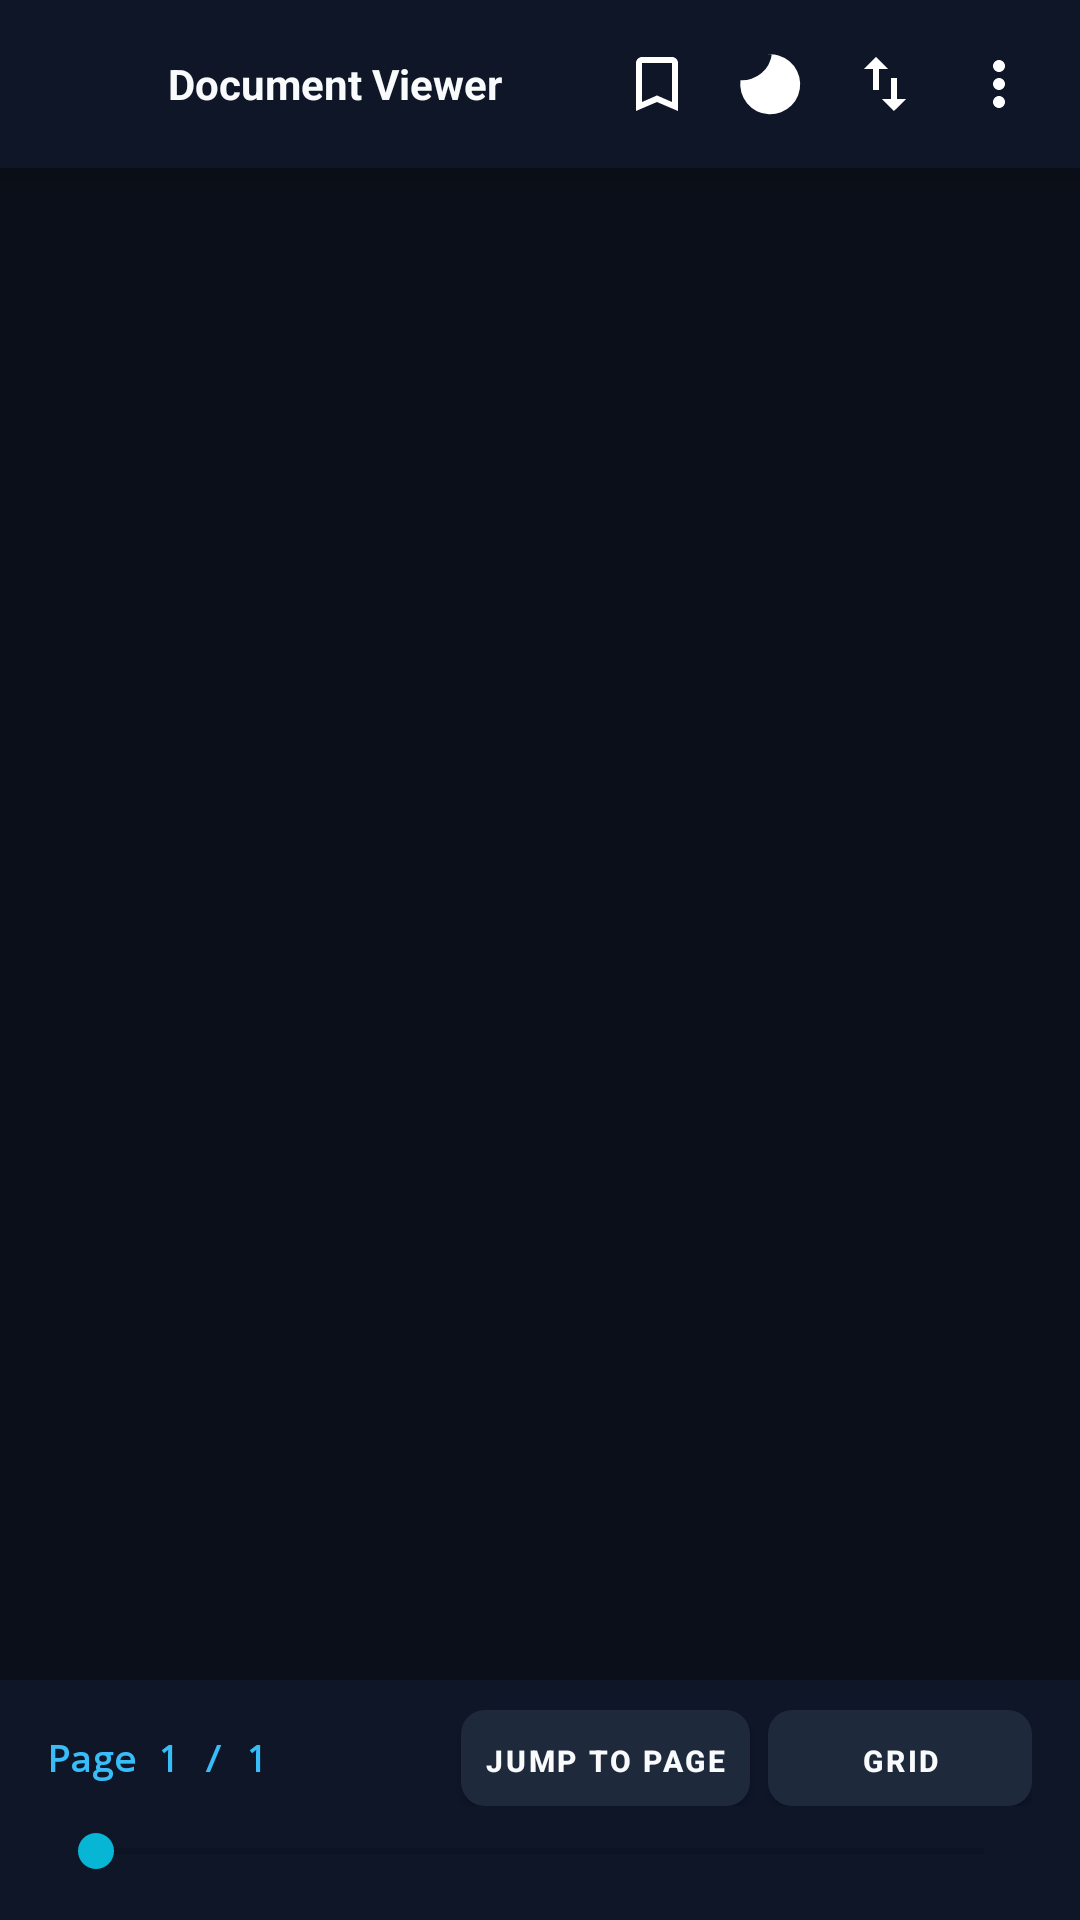

Locate icon controls on the screen. Image size 1080px×1920px, boxes as box(x1, y1, x2, y2).
Bookmark Page: box(636, 57, 678, 111)
More Options: box(993, 60, 1005, 108)
Night Mode: box(740, 54, 801, 115)
Scroll Mode: box(864, 57, 906, 111)
